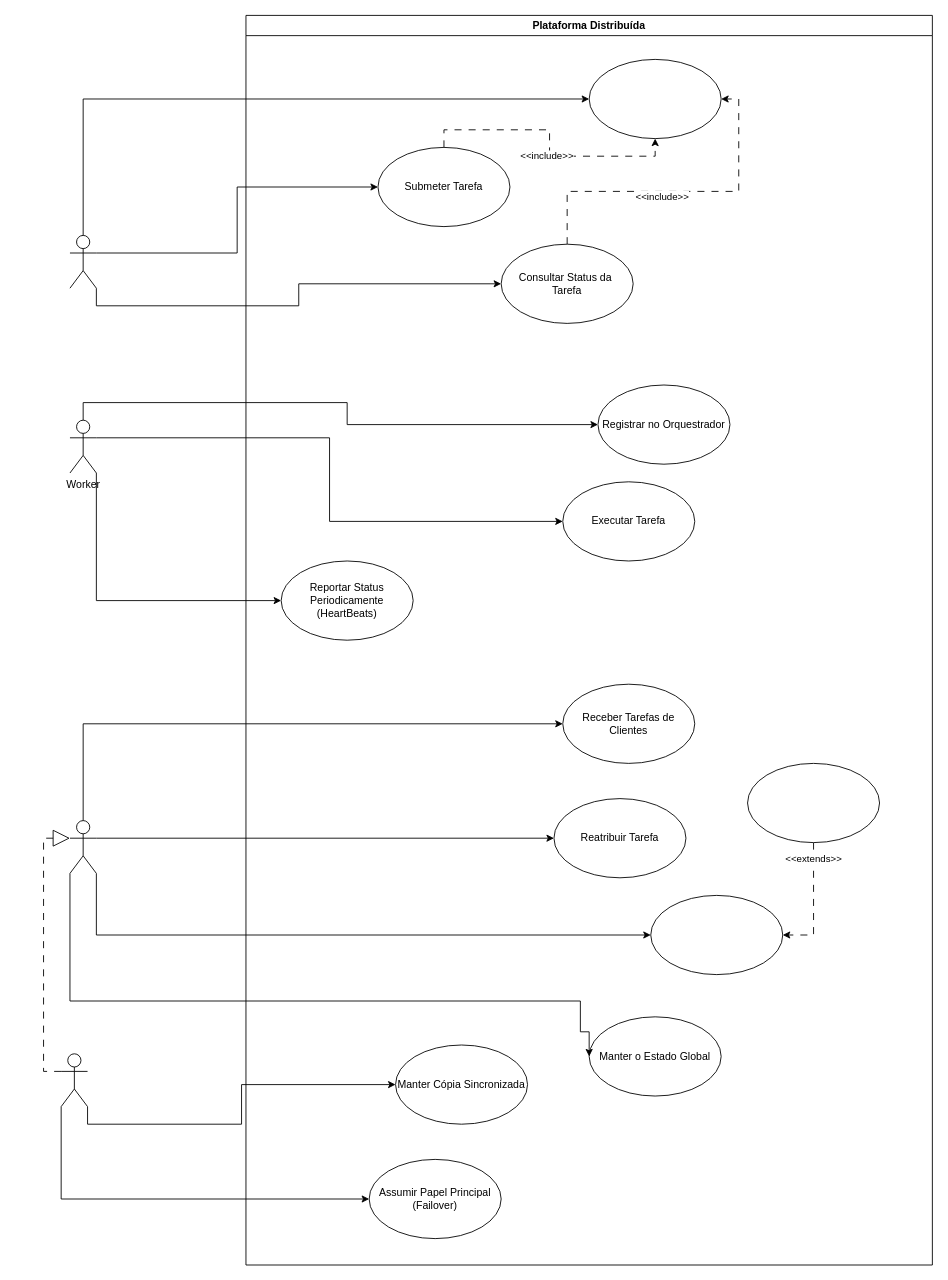
The diagram is 948 pixels wide and 1280 high, and some of its shapes have lost their labels. The centre of each missing label's shape, as x and y in pixels:
Autenticar no Sistema: (x=654, y=99)
Cliente: (x=82, y=261)
Monitorar Workers: (x=716, y=935)
Orquestrador Principal: (x=82, y=846)
Orquestrador Secundário: (x=74, y=1080)
Reatribuir Tarefa (Em caso de falha): (x=813, y=803)
